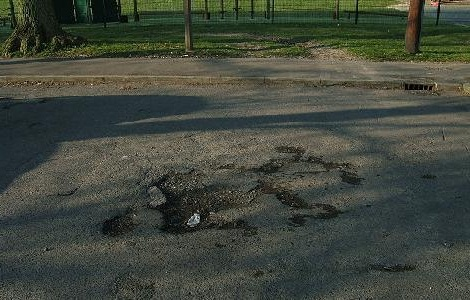pothole: (148, 165, 256, 237), (256, 178, 312, 208), (97, 208, 142, 237)
